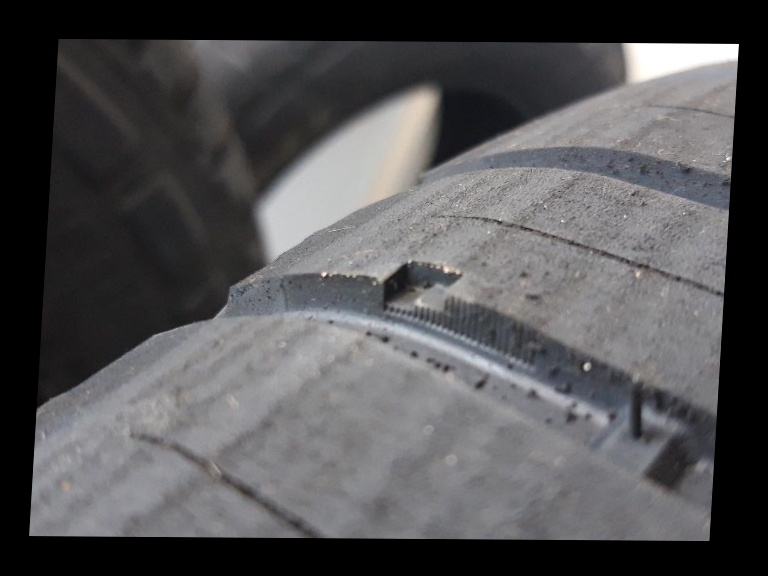temoin:50: (370, 254, 491, 353)
